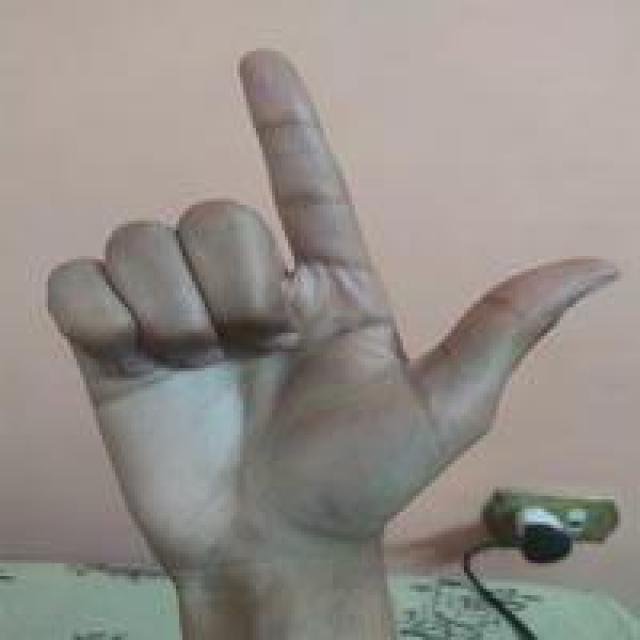L: (42, 41, 627, 582)
